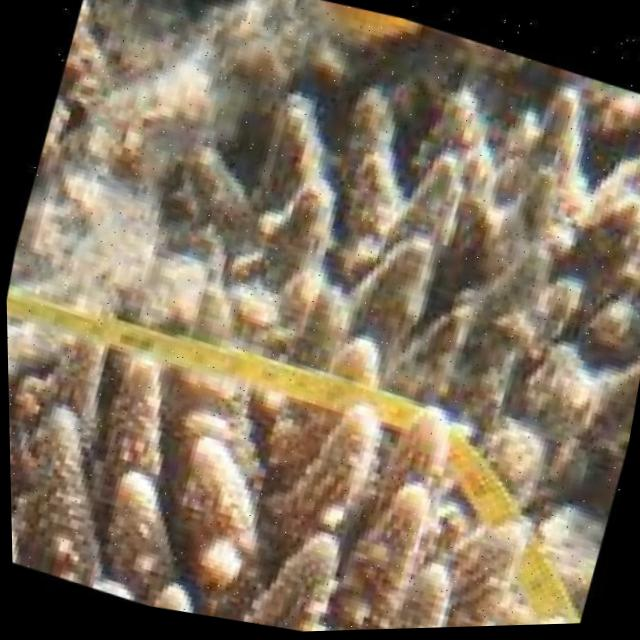Healthy Coral: (5, 271, 606, 640)
